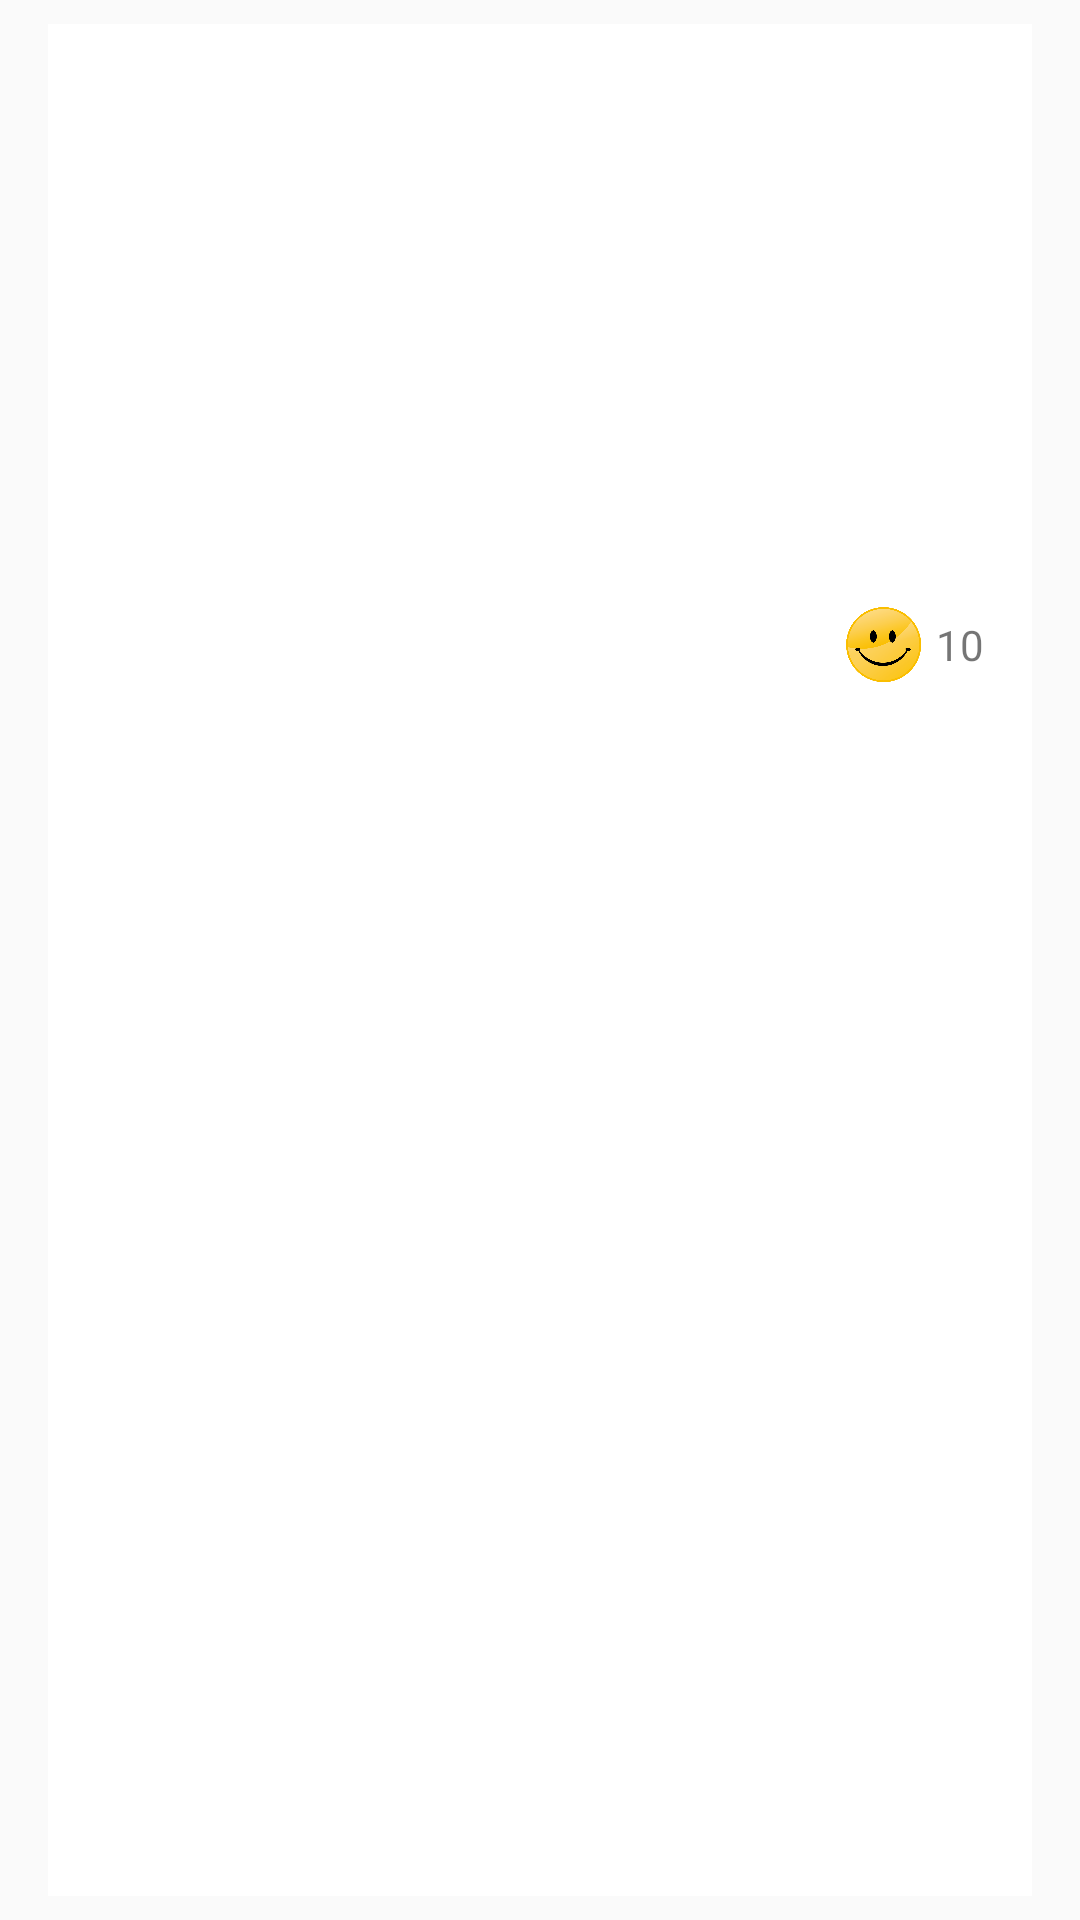

Icon bounding boxes for this 1080px×1920px phone screenshot, format (left=x1, top=y1, right=x2, bottom=y2):
like: (left=846, top=607, right=921, bottom=682)
